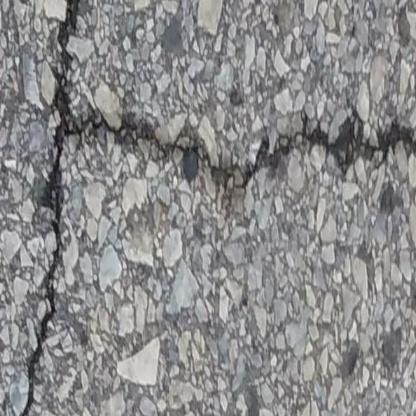Cracks: (50, 30, 416, 264), (2, 0, 118, 416)
